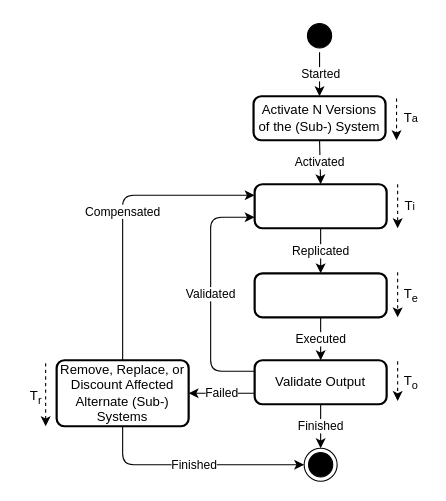
Some shapes in this 446 by 501 pixel diagram are drawn without their labels. The shapes that lost their labels are listed below. From the top down, each one's box as (x1, y1, x2, y2) in pixels, then its label:
(253, 183, 387, 229): Replicate Input
(253, 272, 387, 318): Execute N Versions
